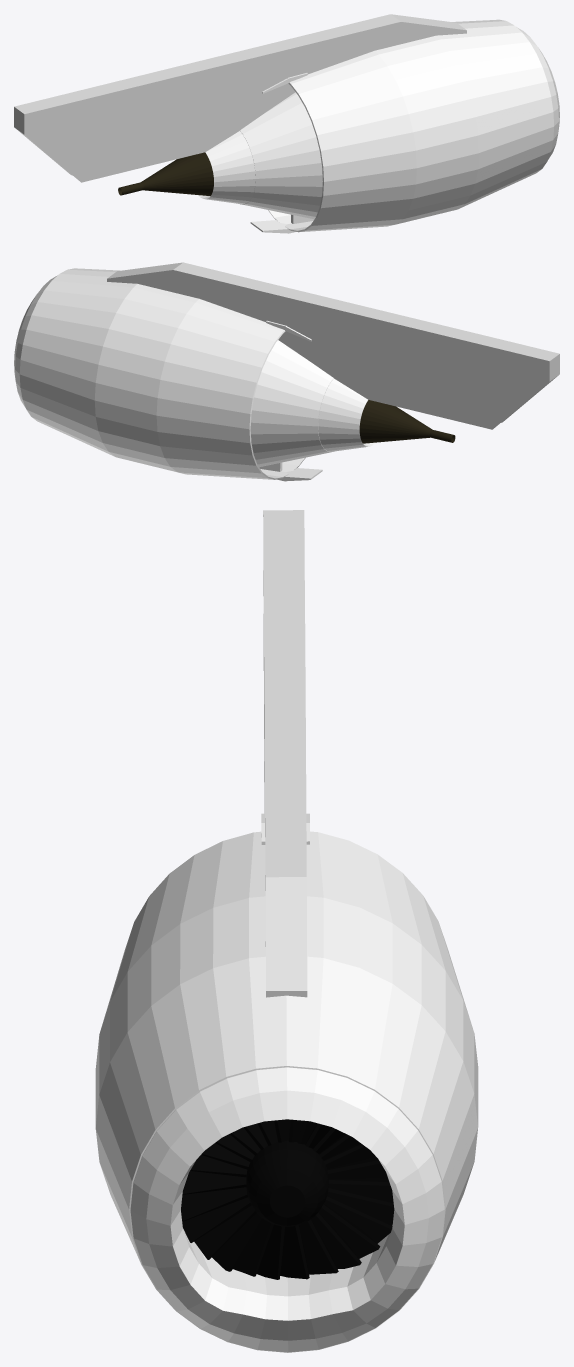
3 views of the same model, one above another, from view 1: azimuth 30°, elevation 25°; view 2: azimuth 150°, elevation 25°; view 3: azimuth 270°, elevation 25° (orthographic). The views are drawn at different scales.
Visible parts, largest first — view 1: 円柱, 立方体.003, 円柱.004, 円柱.005, 円柱.006, 円柱.003, 立方体.001; view 2: 円柱, 立方体.003, 円柱.004, 円柱.005, 円柱.006, 円柱.003, 立方体.001; view 3: 円柱, 円柱.003, 円柱.007, 立方体.003.
Part boxes in pixels (left/top/right/bottom): 円柱: left=268, top=19, right=553, bottom=232; 立方体.003: left=14, top=14, right=466, bottom=182; 円柱.004: left=240, top=92, right=322, bottom=219; 円柱.005: left=198, top=131, right=255, bottom=204; 円柱.006: left=118, top=152, right=213, bottom=195; 円柱.003: left=516, top=27, right=559, bottom=159; 立方体.001: left=250, top=220, right=295, bottom=233; 円柱: left=19, top=268, right=305, bottom=479; 立方体.003: left=107, top=262, right=559, bottom=429; 円柱.004: left=250, top=340, right=334, bottom=467; 円柱.005: left=318, top=378, right=375, bottom=451; 円柱.006: left=359, top=400, right=455, bottom=443; 円柱.003: left=14, top=275, right=57, bottom=407; 立方体.001: left=277, top=468, right=322, bottom=481; 円柱: left=95, top=831, right=478, bottom=1352; 円柱.003: left=130, top=1067, right=444, bottom=1352; 円柱.007: left=181, top=1119, right=394, bottom=1279; 立方体.003: left=263, top=510, right=307, bottom=997.
Size of the model in its own units: 7.47 by 2.72 by 2.42.
